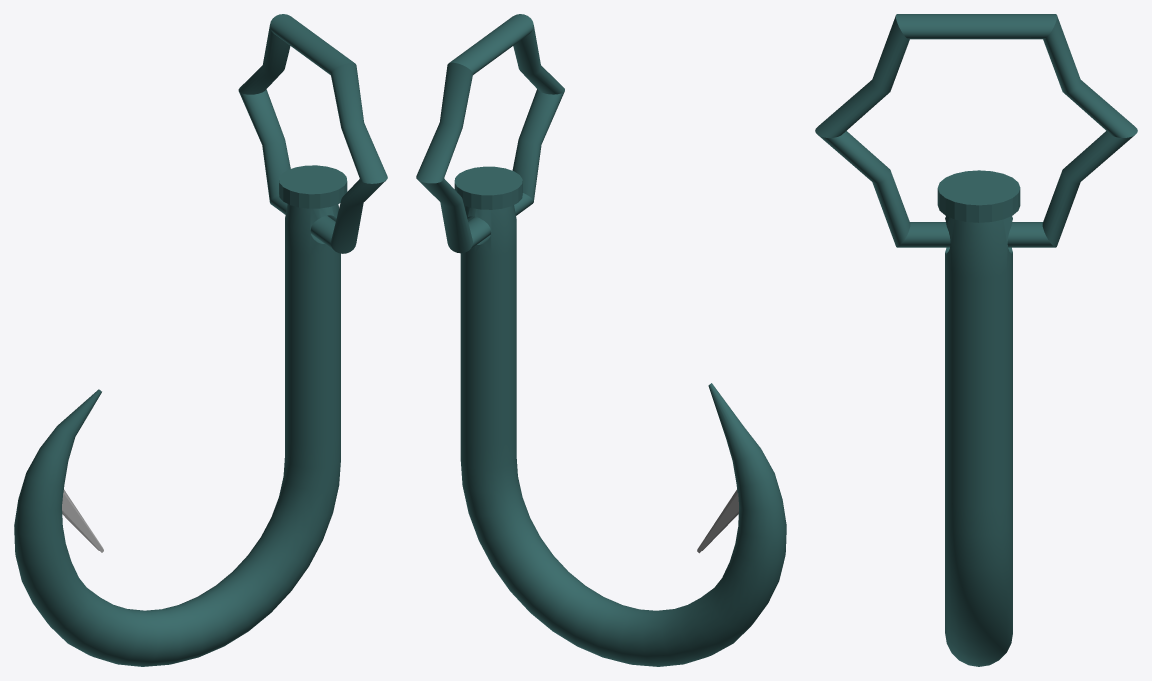
The model's file is hook.fbx.
3 views of the same model, side by side, from view 1: azimuth 30°, elevation 25°; view 2: azimuth 150°, elevation 25°; view 3: azimuth 270°, elevation 25° (orthographic). The views are drawn at different scales.
Parts seen in each view (by area): view 1: polySurface36, pTorus15, pCube234; view 2: polySurface36, pTorus15, pCube234; view 3: polySurface36, pTorus15.
Boxes of the visible parts, x1,y1,x2,y2 form: polySurface36: (14, 165, 347, 666); pTorus15: (238, 14, 387, 253); pCube234: (62, 489, 103, 552); polySurface36: (454, 166, 786, 666); pTorus15: (416, 14, 564, 253); pCube234: (697, 489, 738, 553); polySurface36: (937, 170, 1020, 666); pTorus15: (815, 14, 1137, 247).
Size of the model in its own units: 28.52 by 49.28 by 20.32.
